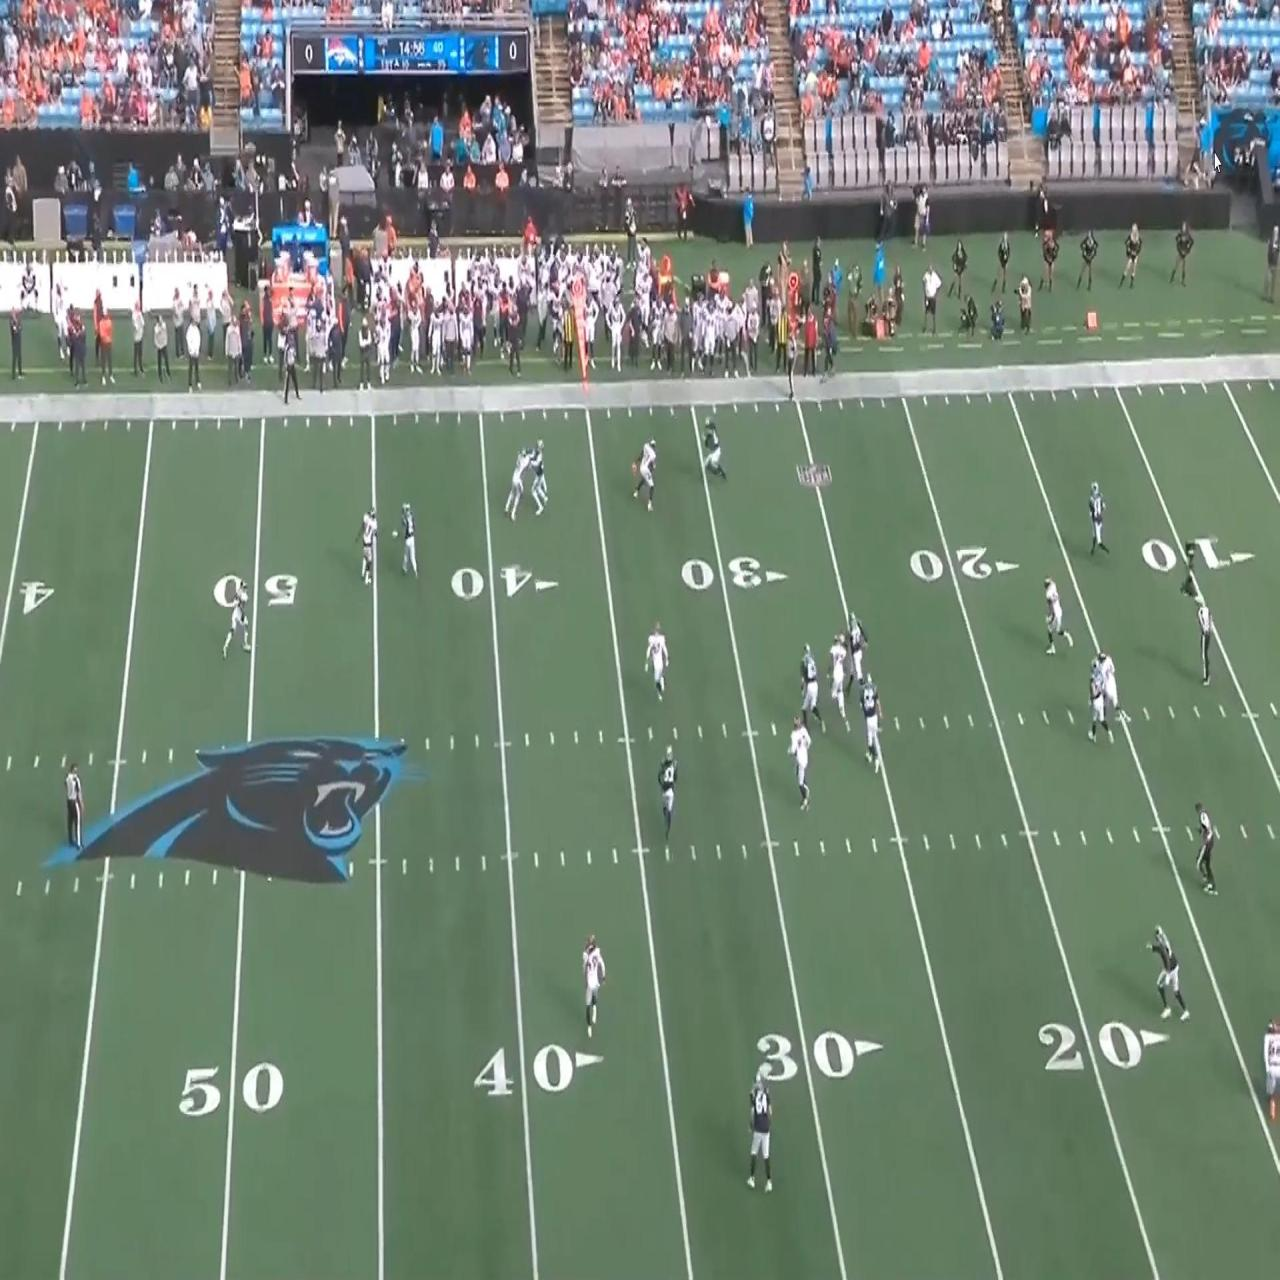10R: (1141, 537, 1257, 572)
20R: (1035, 1019, 1171, 1070), (908, 546, 1021, 581)
30R: (757, 1030, 885, 1083), (681, 557, 790, 592)
40L: (0, 580, 55, 614)
40R: (474, 1044, 606, 1095), (450, 565, 560, 600)
50: (178, 1061, 285, 1116), (213, 572, 298, 610)
